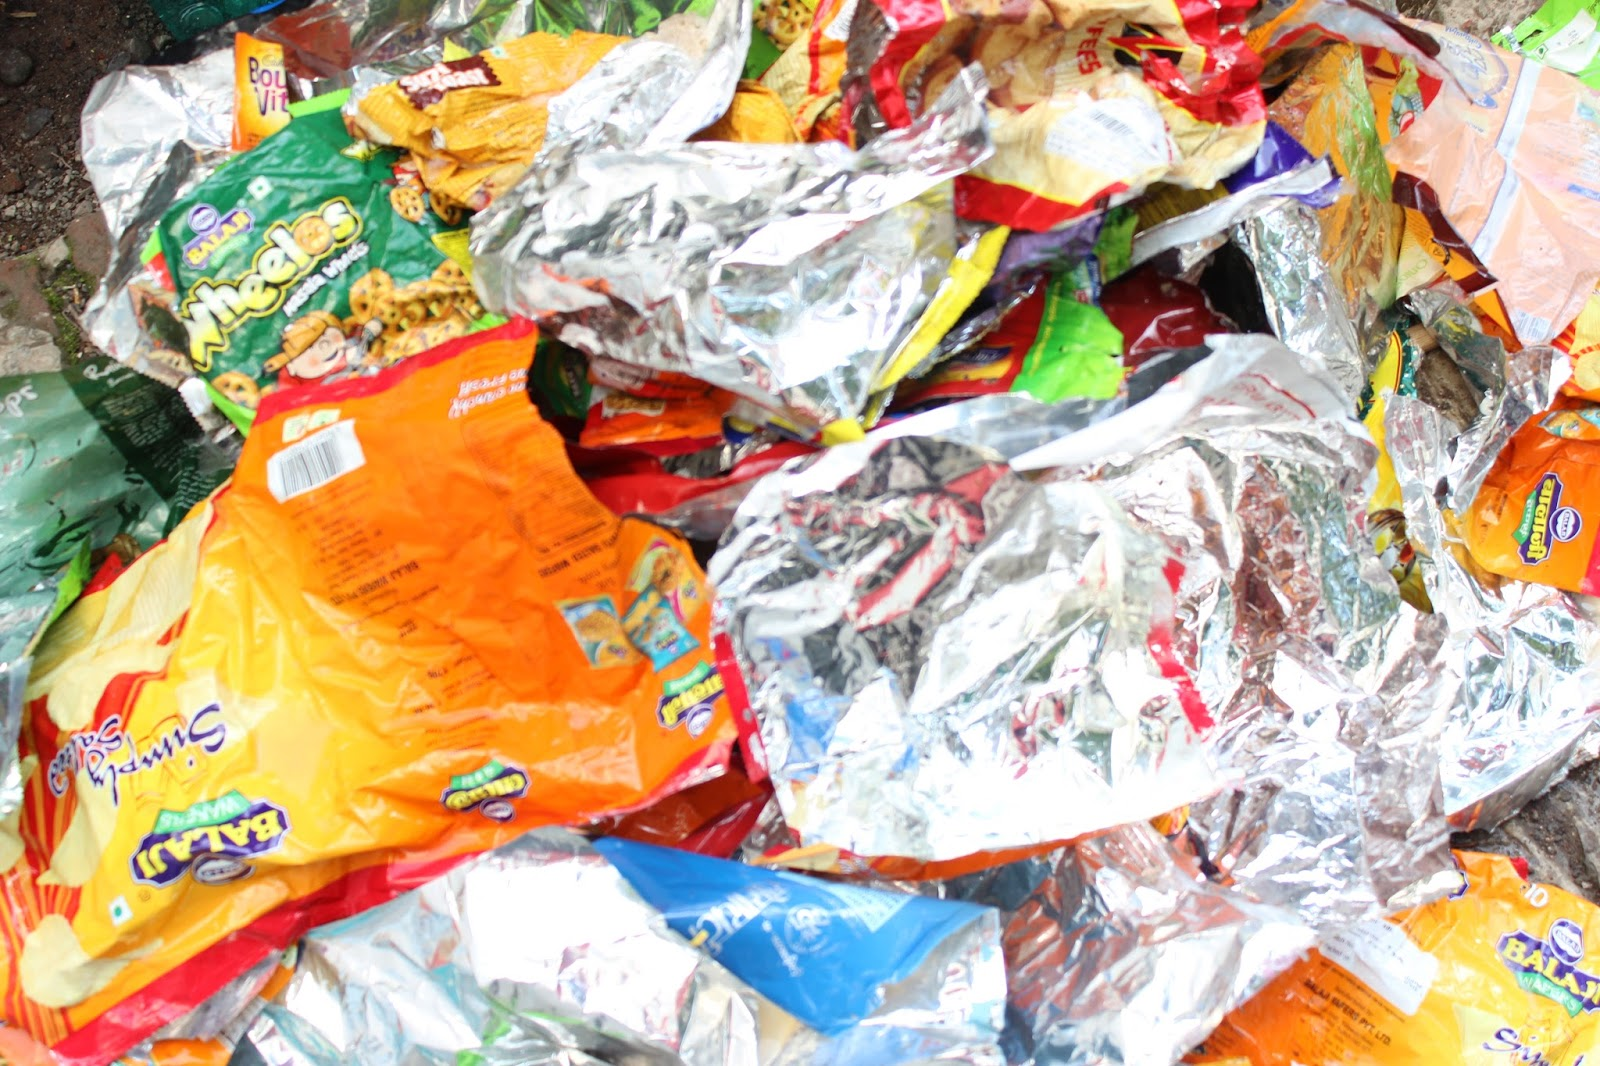plastic: (1, 1, 1596, 1062)
wrapper: (11, 332, 759, 1054), (691, 327, 1449, 797), (201, 822, 1079, 1042), (481, 57, 964, 432), (153, 84, 516, 493), (866, 1, 1274, 257), (1166, 842, 1600, 1052), (74, 29, 316, 366), (1369, 39, 1600, 377), (1201, 24, 1419, 355), (6, 357, 239, 654), (896, 272, 1241, 449), (356, 17, 661, 209), (564, 372, 826, 559), (1439, 399, 1589, 629)
